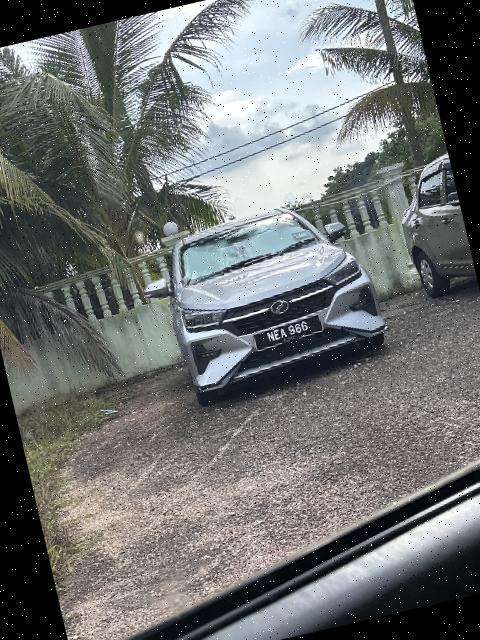License_Plate: (251, 315, 327, 355)
NEA966: (251, 315, 327, 355)
car: (131, 178, 401, 414)
